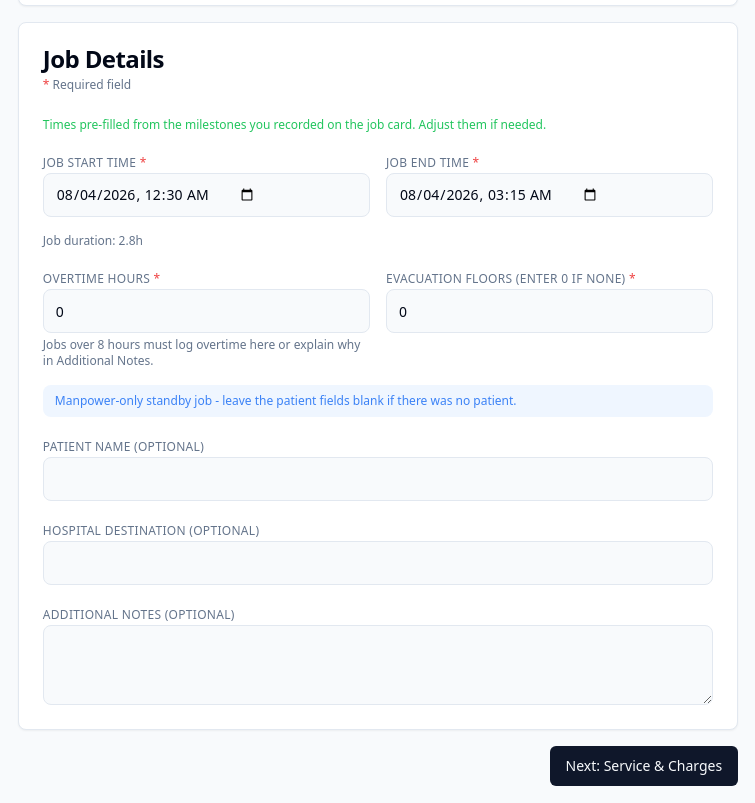
Test case: Memo wizard - manpower-only standby job (client feedback #4) › an event_standby booking marks the patient fields optional and advances with them blank
(page scrolled)
Check: the field labelled "Patient Name (optional)" is shown, box [43,457,713,501]
Check: the field labelled "Hospital Destination (optional)" is shown, box [43,541,713,585]
Times are pre-filled from milestones, so Step 1 is already submittable.
Click the button "Next: Service & Charges".
click(644, 766)  # box [550,746,738,786]
(page scrolled)
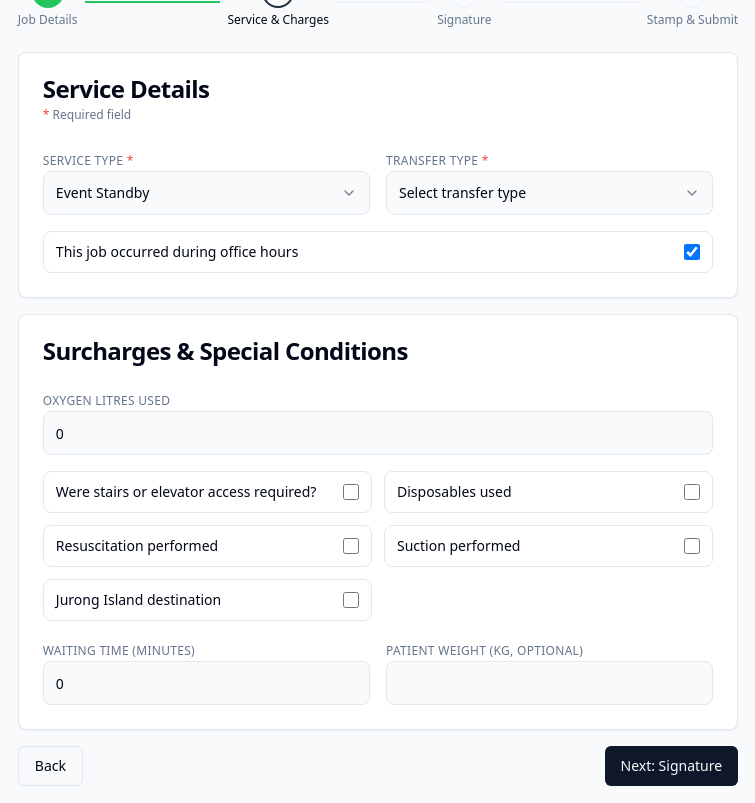
Check: the text "Service Details" is shown, box [43,72,209,105]
